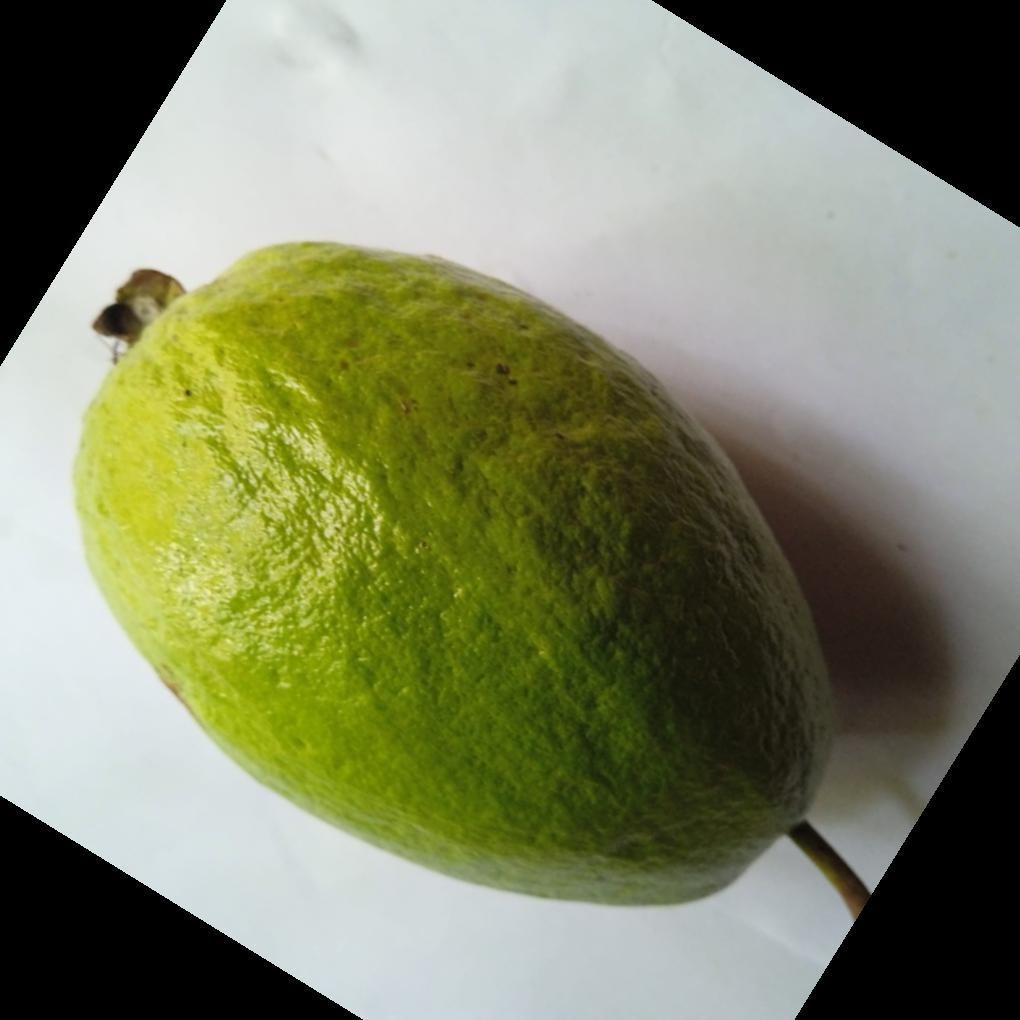FreshGuava: (72, 240, 838, 912)
